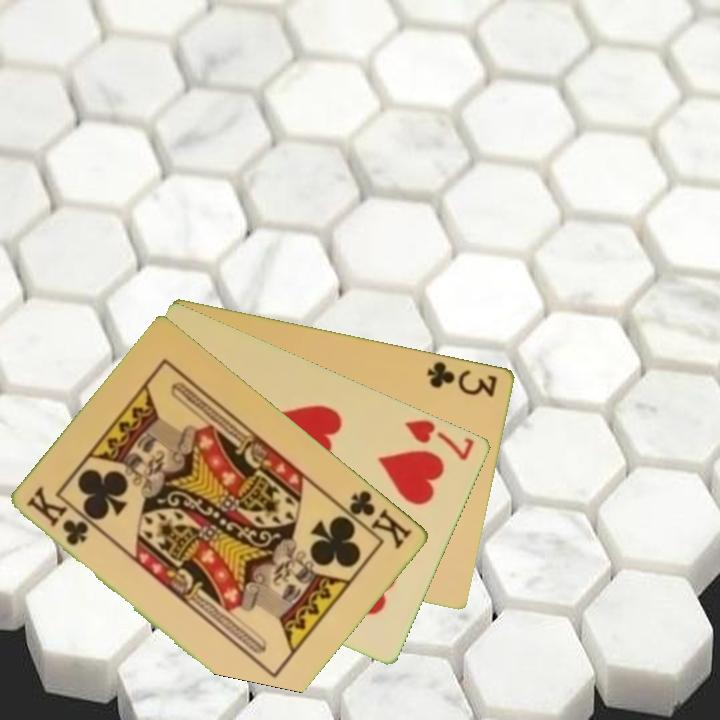3c: (424, 357, 501, 399)
7h: (401, 415, 478, 464)
Kc: (337, 486, 416, 552), (23, 484, 93, 549)
